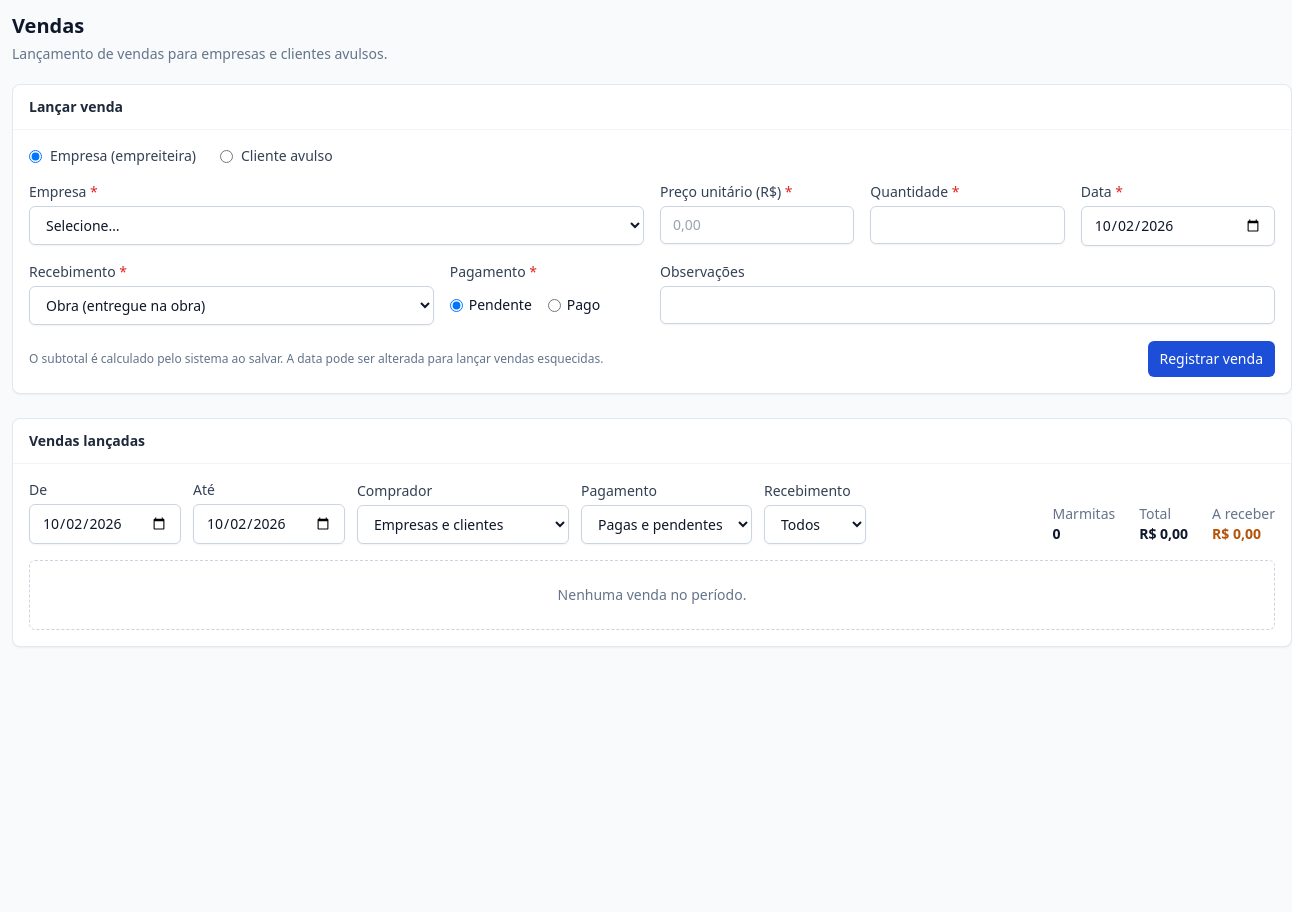
Scenario: Vendas (FE-02, FE-03, FE-04) › envia a venda com data escolhida e mostra o subtotal calculado pelo servidor
The width and height of the screenshot is (1292, 912).
Select "Construtora Alfa — Obra Centro" in the dropdown labelled "Empresa *": (336, 226) [29,206,644,245]
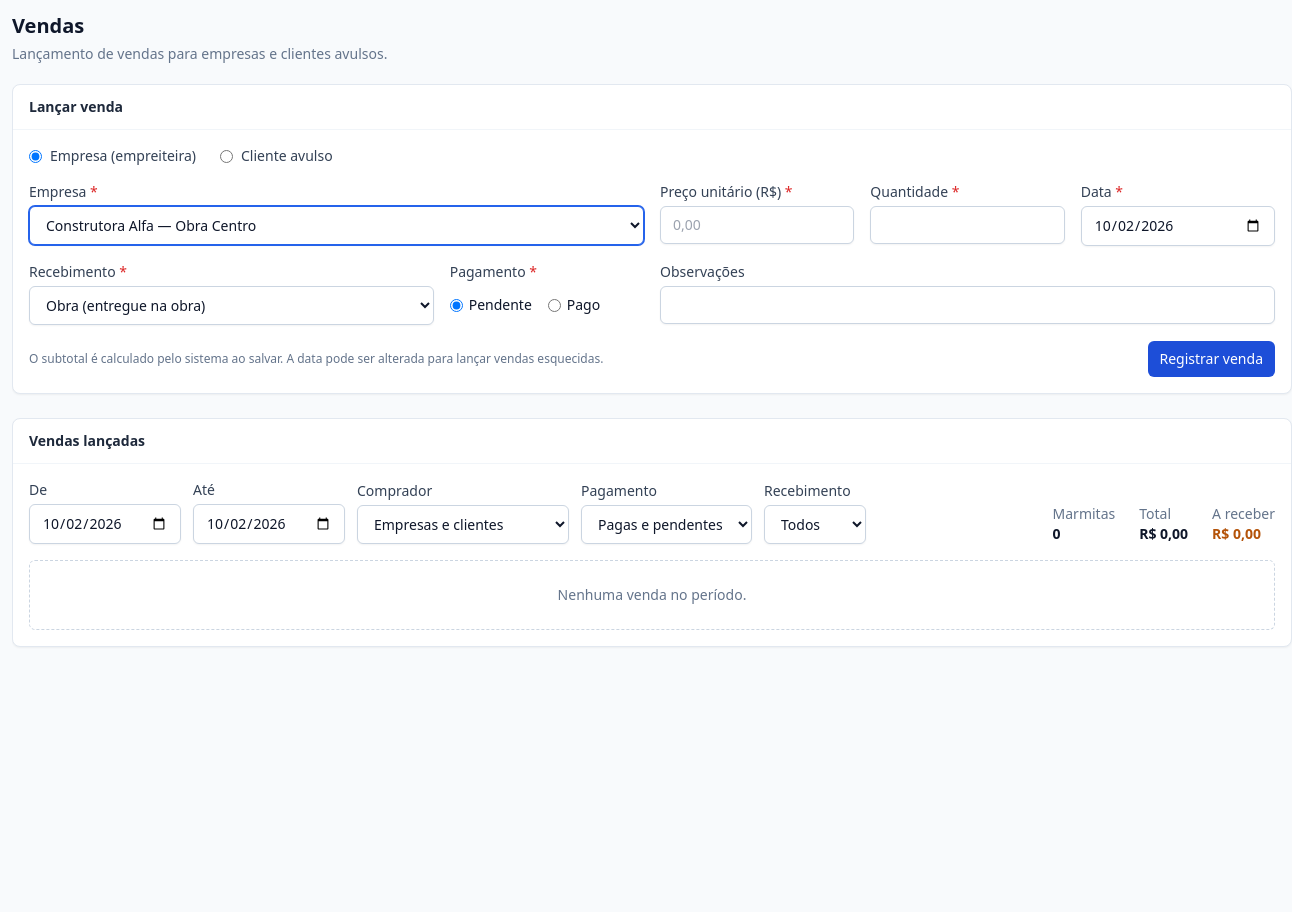
In the field labelled "Preço unitário (R$) *": (757, 225) [660,206,854,244], type "18,50"
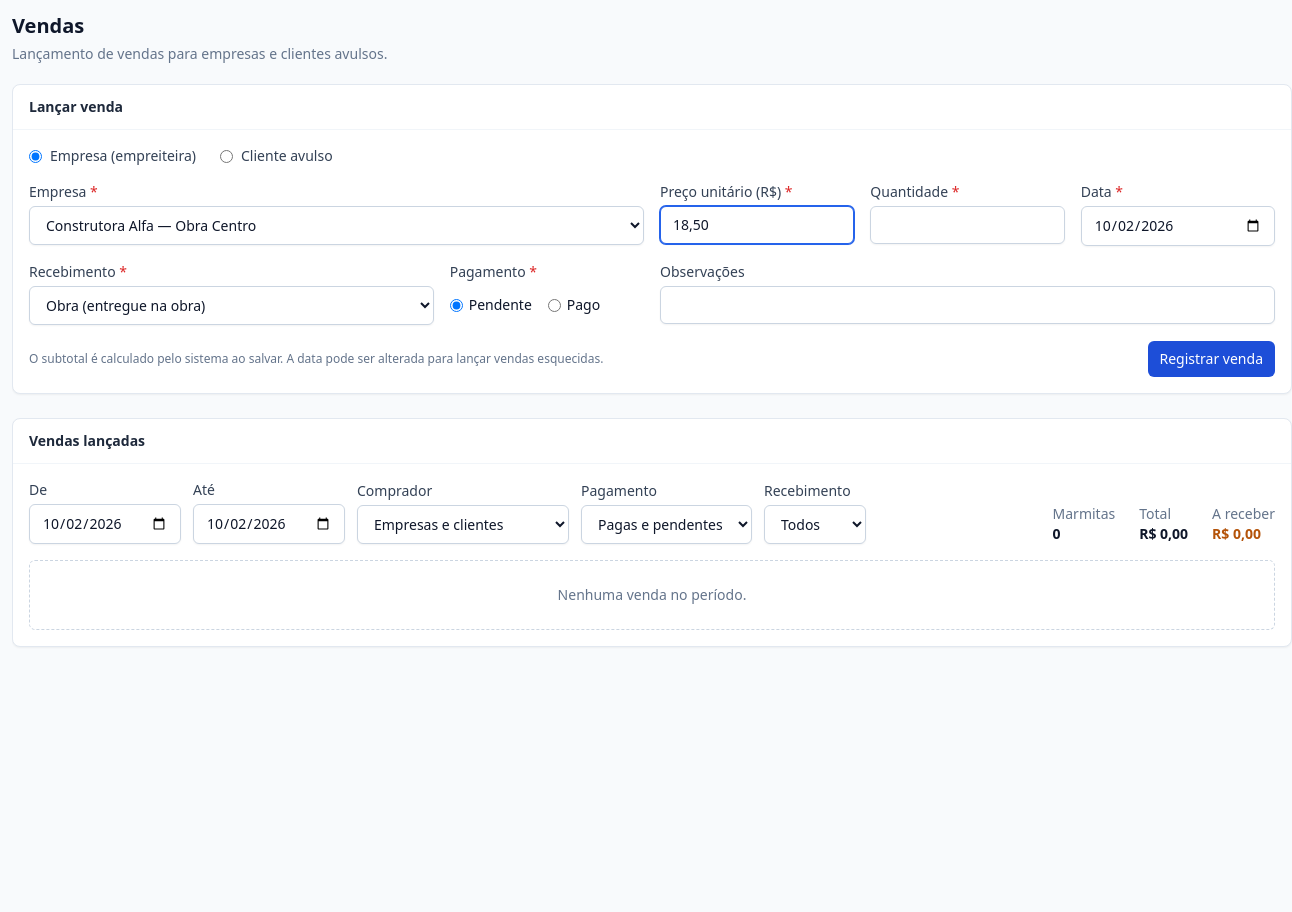
In the field labelled "Quantidade *": (967, 225) [870,206,1065,244], type "40"
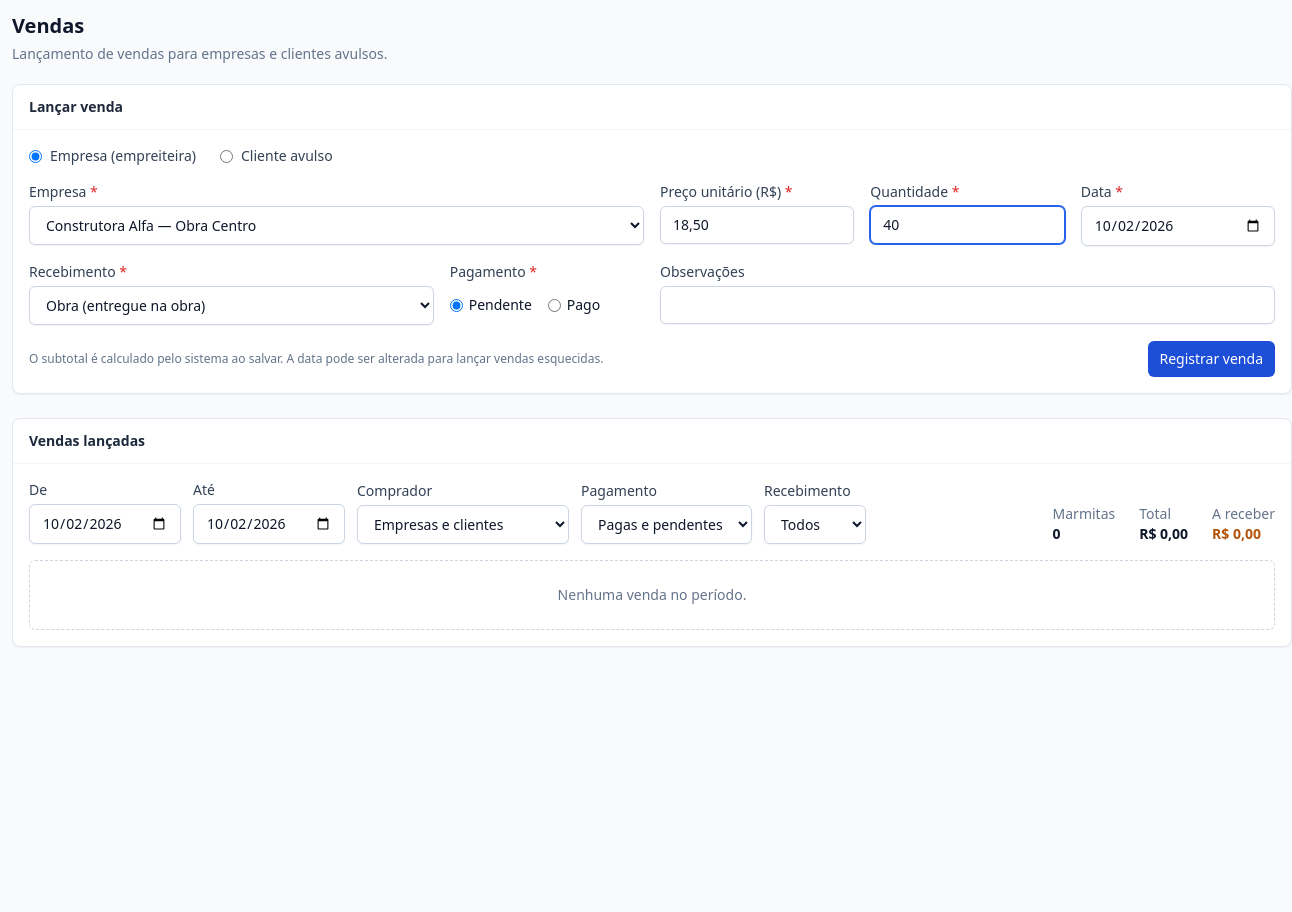
In the date field labelled "Data *": (1178, 226) [1081,206,1275,246], type "2026-09-29"
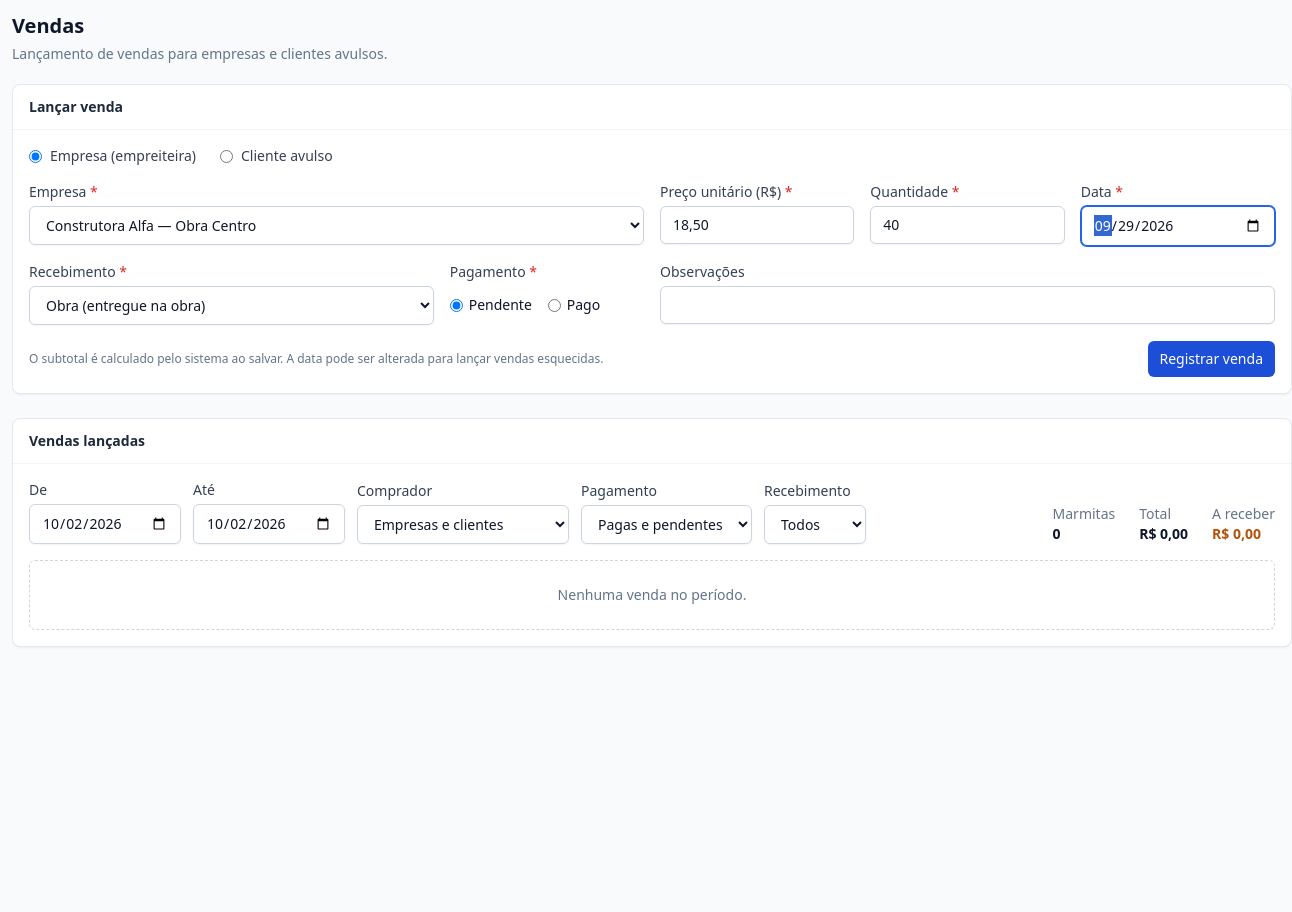
Click the button "Registrar venda": (1211, 359) [1148,341,1275,377]
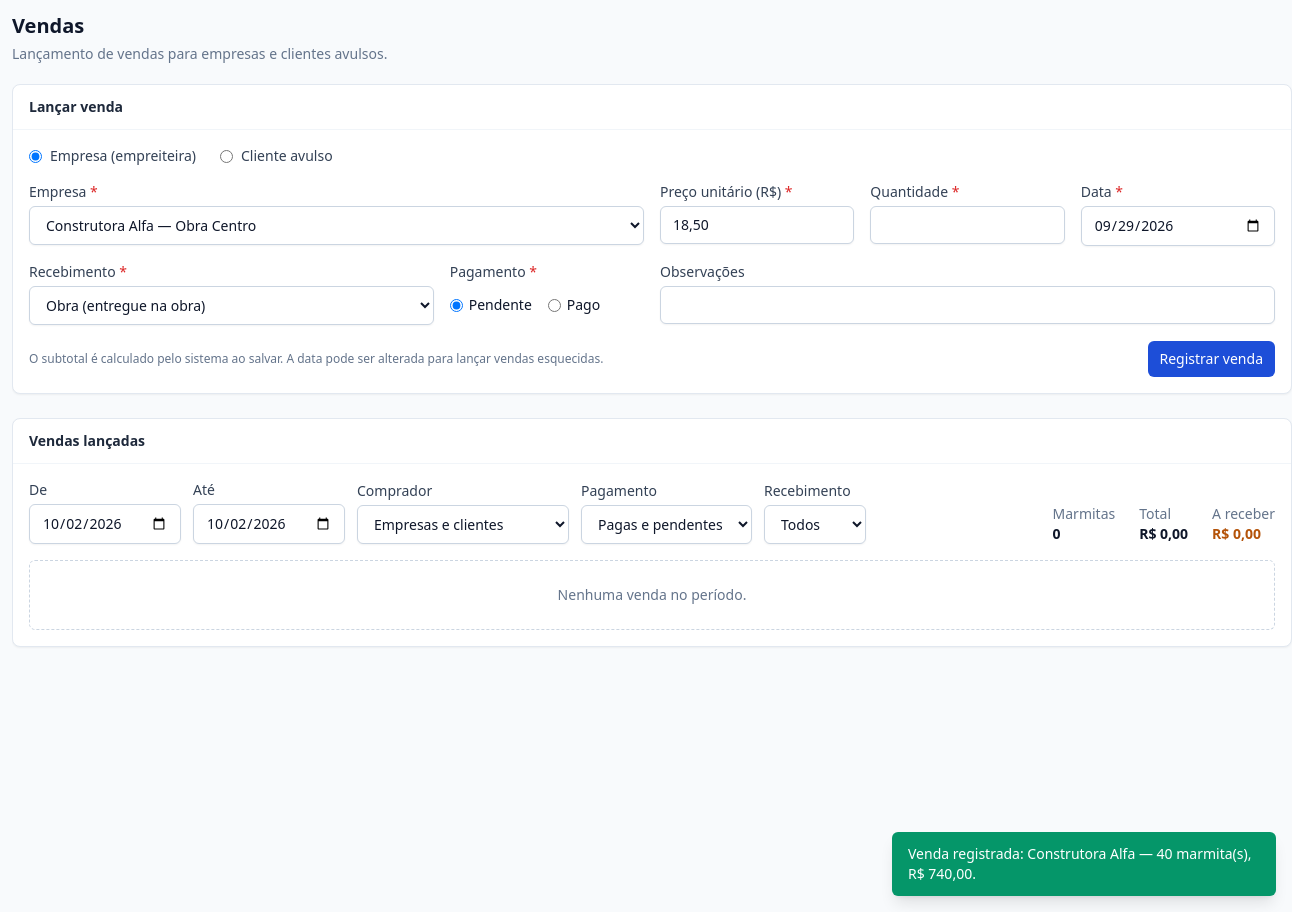
Expected: the message shows "R$ 740,00", [908,844,1251,883]
